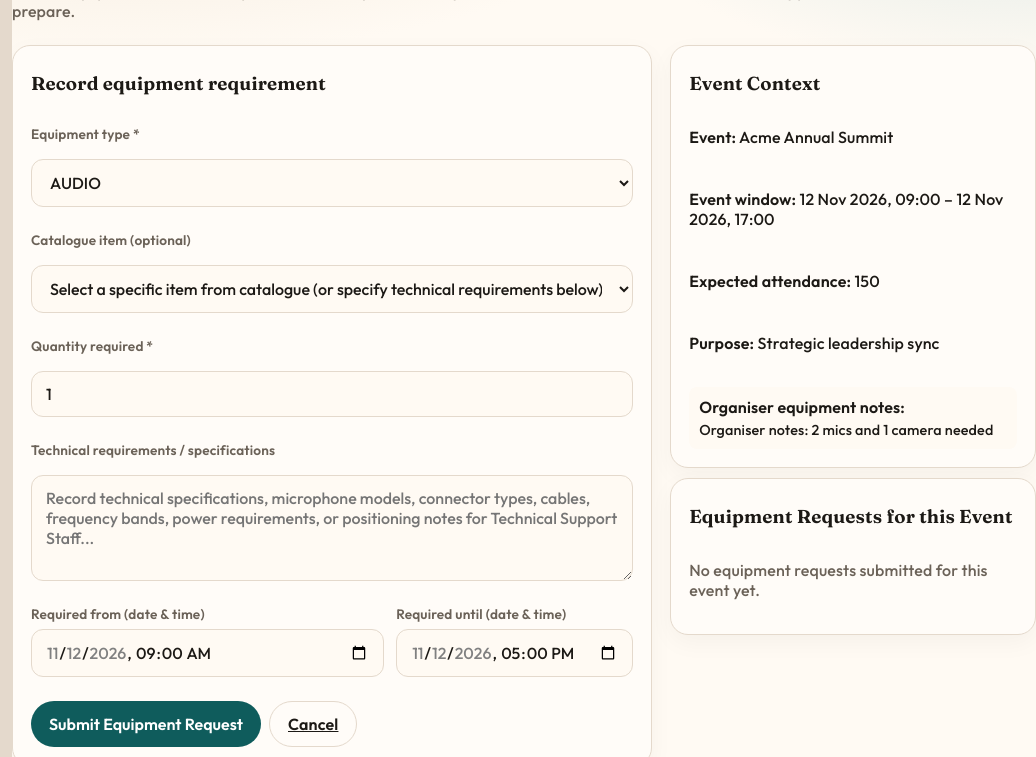
Test case: SCRUM-47 EquipmentRequest page › displays API error when request creation fails
(page scrolled)
What coordinates should you click on to do the following:
click the button "Submit Equipment Request"
I would click on:
 (146, 724)
Its box is [31,701,261,747].
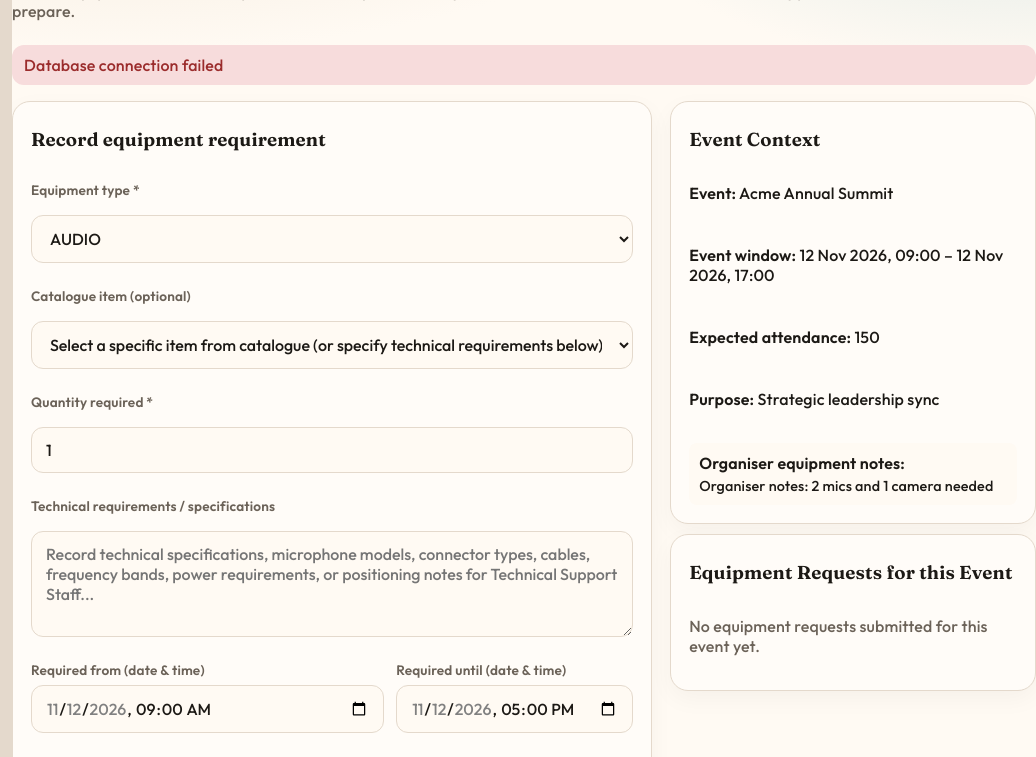
Now the message reads "Database connection failed", box [24,55,224,75]
